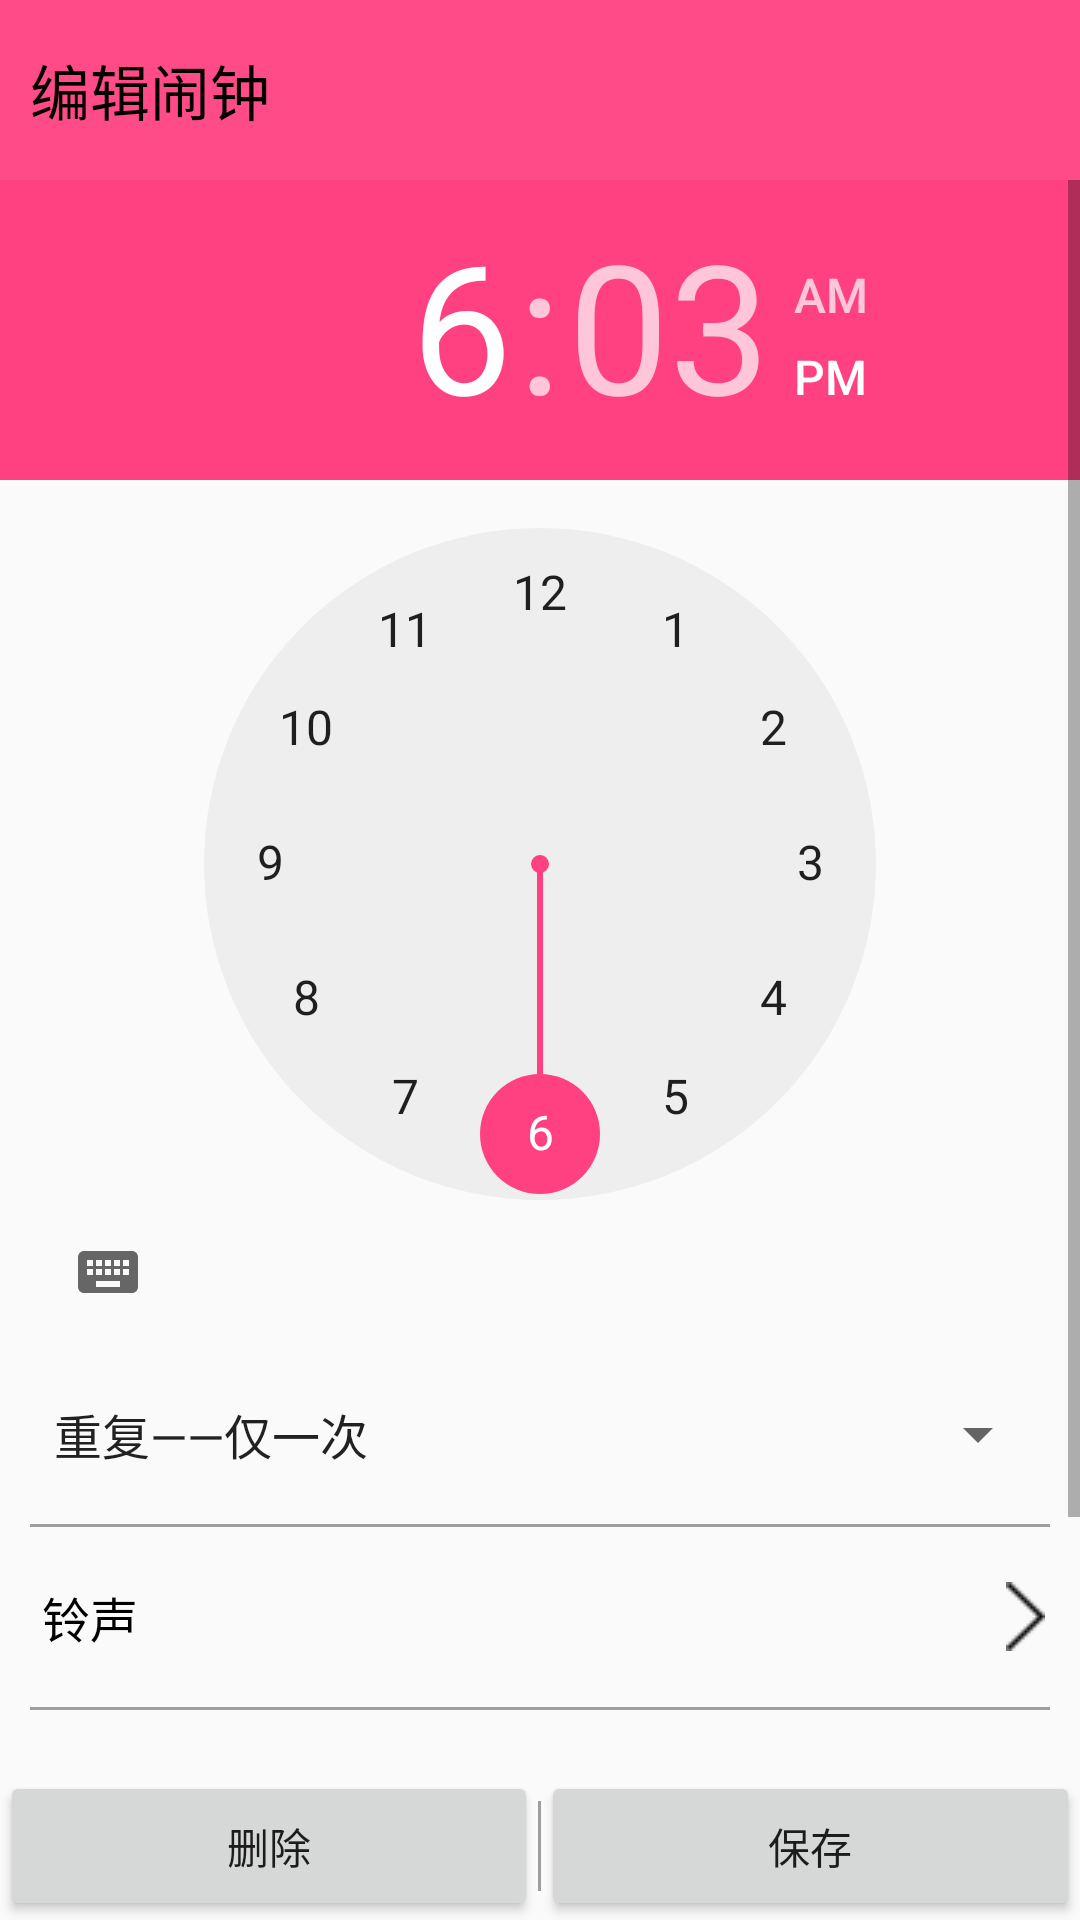

Point at icon controls on the screen. Image size 1080x1920, points as (x=x, y=y).
forward: (x=1025, y=1616)
